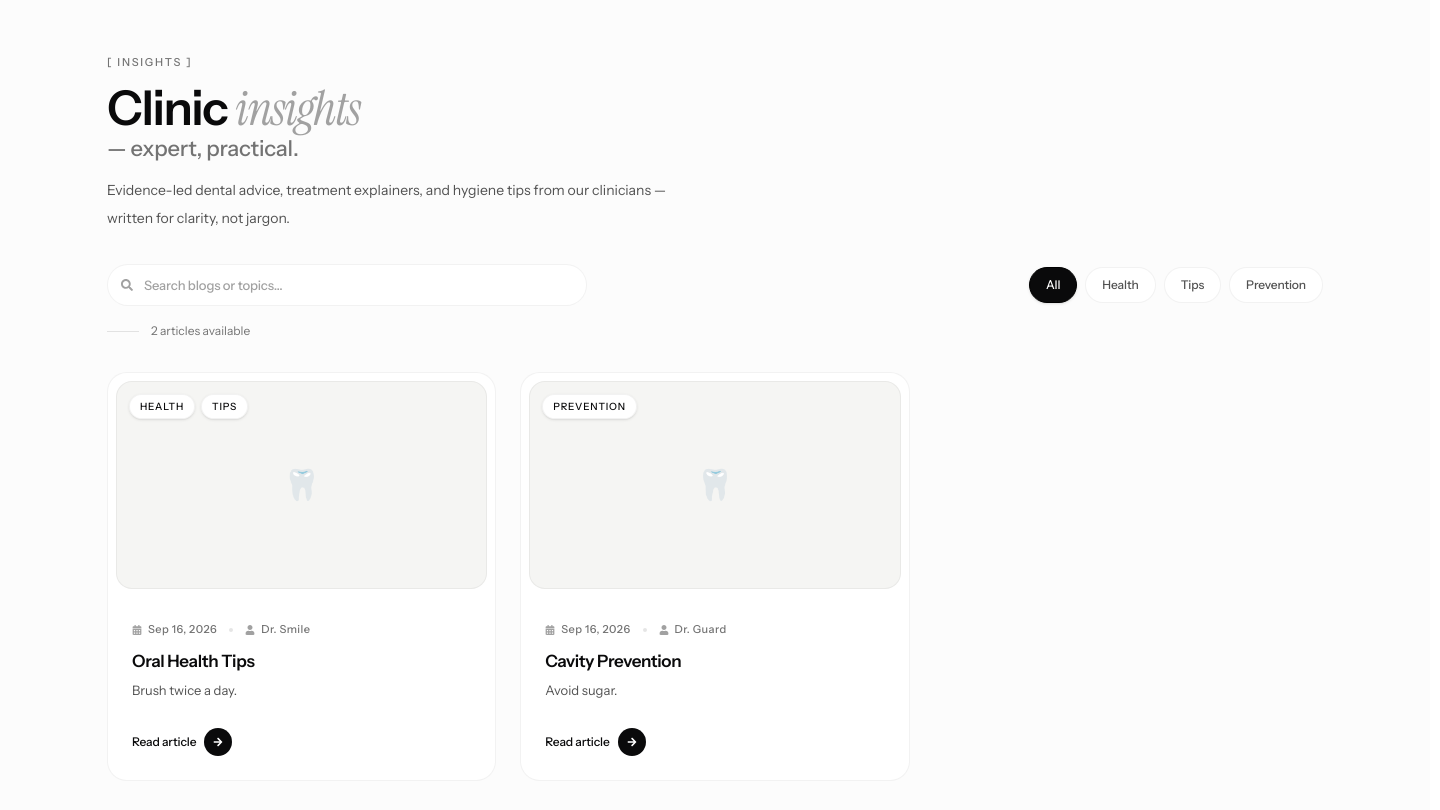
Test case: BlogListPage › should filter blogs based on search term
Expected: the heading "Oral Health Tips" is shown, [132,651,254,671]
Type "Tips" into the field with placeholder "Search blogs or topics...". click: (347, 285)
box: [107,264,587,306]
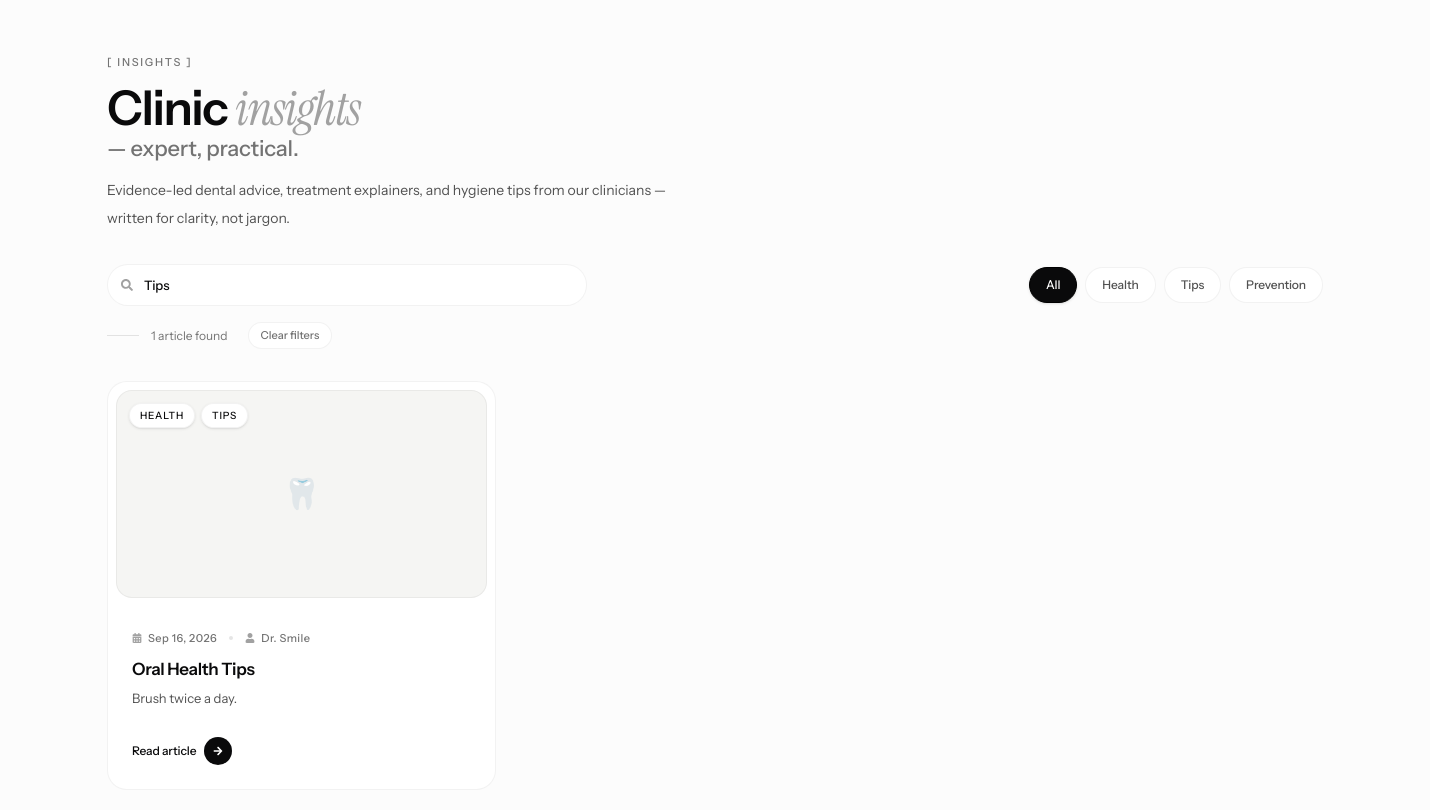
Expected: the heading "Oral Health Tips" is shown, [132,659,254,679]
Expected: the link "Cavity Prevention" is gone
